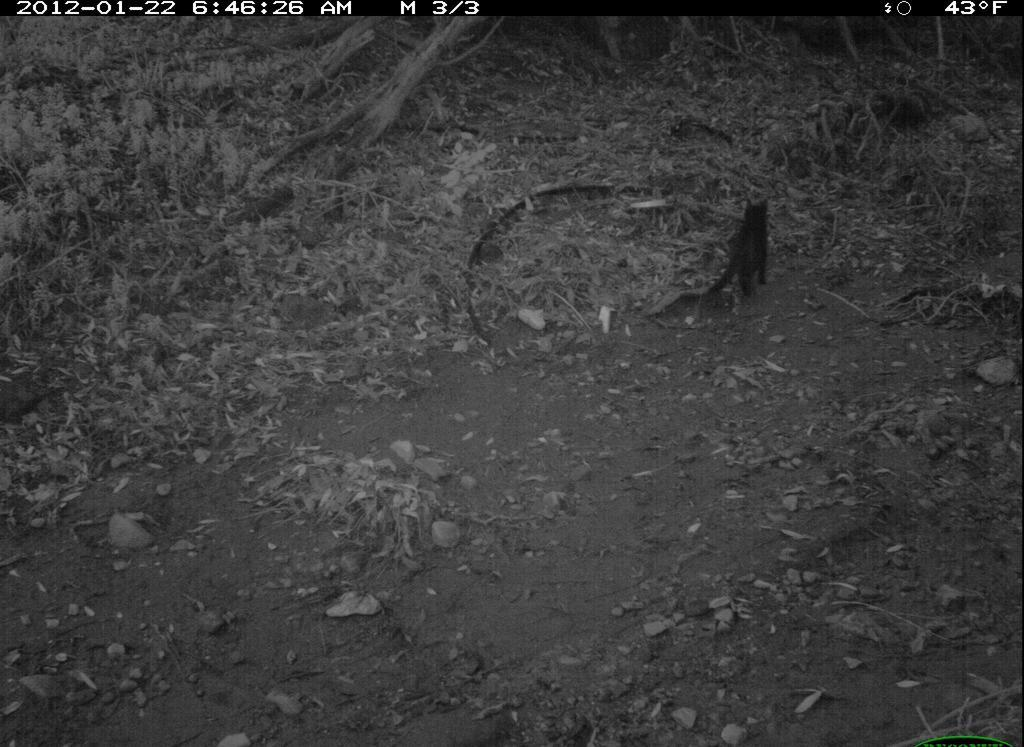cat: (696, 193, 776, 303)
